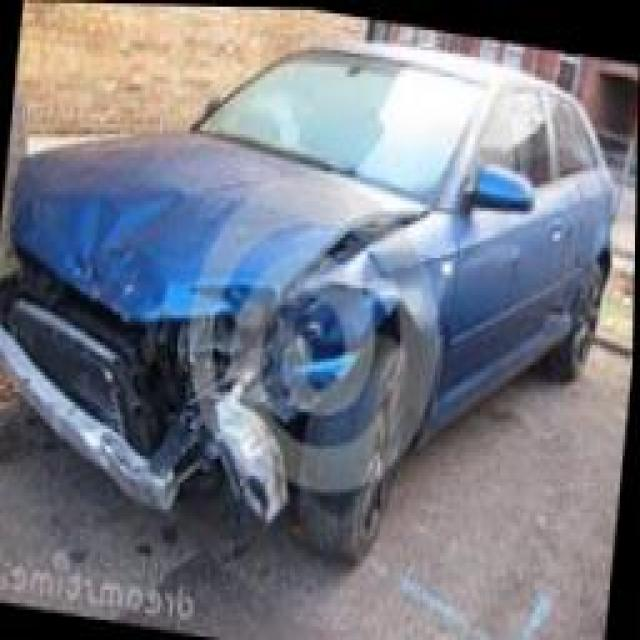Bonnet: (9, 124, 436, 324)
Bumper: (0, 269, 300, 538)
Fender: (259, 215, 442, 420), (521, 272, 583, 366)
